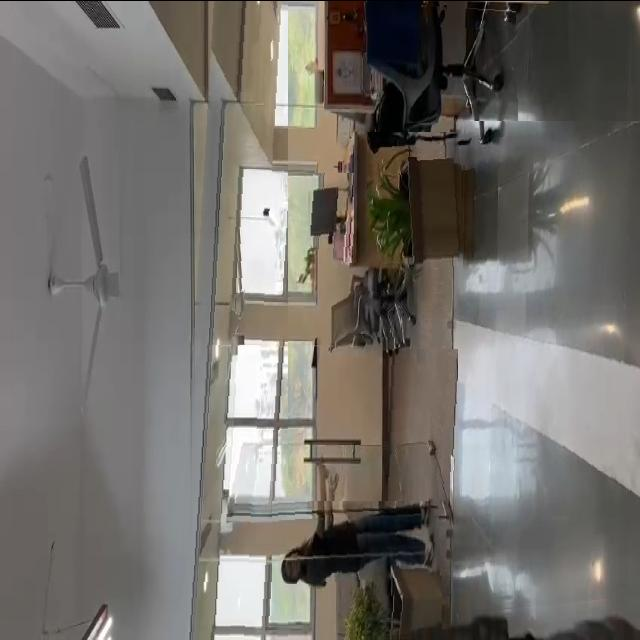floor: (460, 120, 640, 613), (386, 348, 458, 488)
furniture: (353, 0, 518, 122), (367, 131, 468, 279), (341, 572, 442, 640), (337, 261, 402, 357), (300, 172, 354, 256)
moving_object: (272, 500, 441, 602)
wall: (176, 0, 288, 640)
